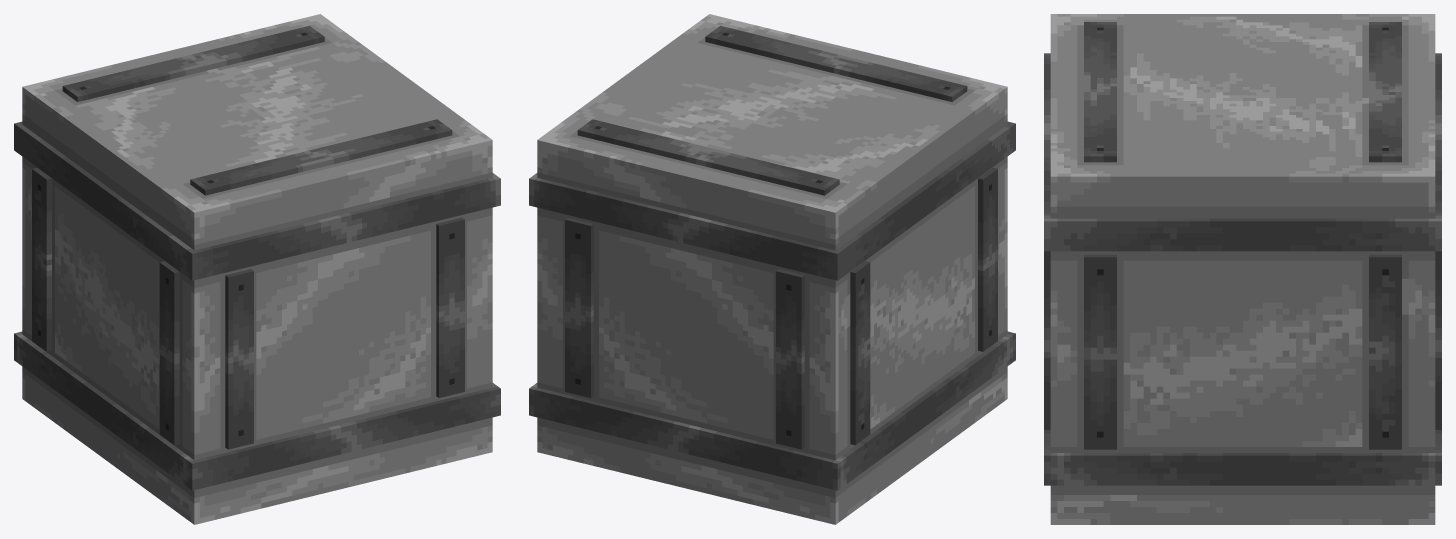
The model's file is iron box.obj.
3 views of the same model, side by side, from view 1: azimuth 30°, elevation 25°; view 2: azimuth 150°, elevation 25°; view 3: azimuth 270°, elevation 25° (orthographic). The views are drawn at different scales.
Parts seen in each view (by area): view 1: iron box; view 2: iron box; view 3: iron box.
Boxes of the visible parts, <box> form: iron box: <box>14,14,500,524</box>; iron box: <box>529,14,1015,524</box>; iron box: <box>1044,14,1441,524</box>.
Bounding box in the file's own units: 60 × 60 × 60.
Materials: 1 (1 with a texture image).
